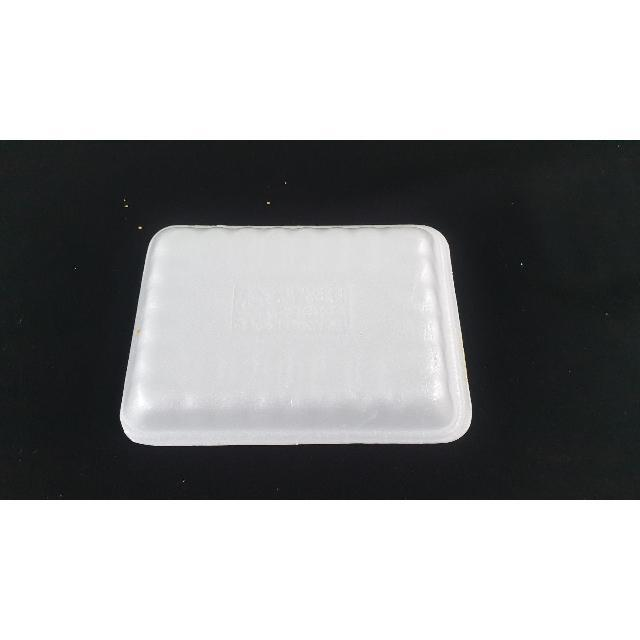Plastico descartable: (118, 224, 474, 450)
